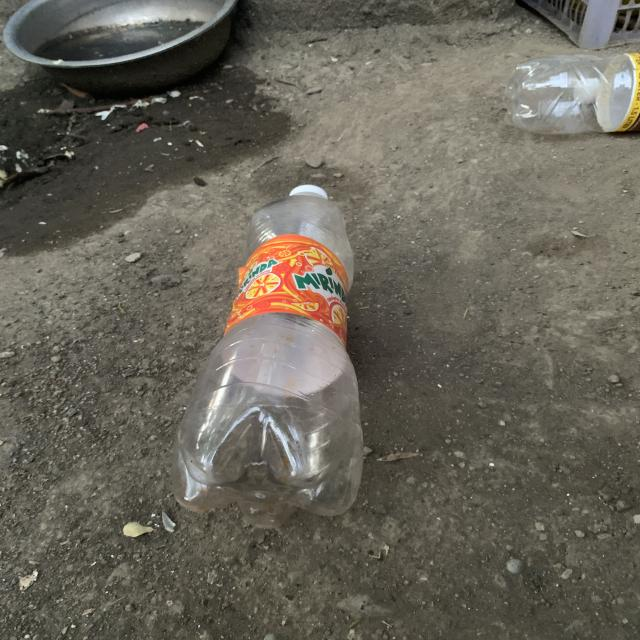Bottle: (172, 185, 363, 528)
